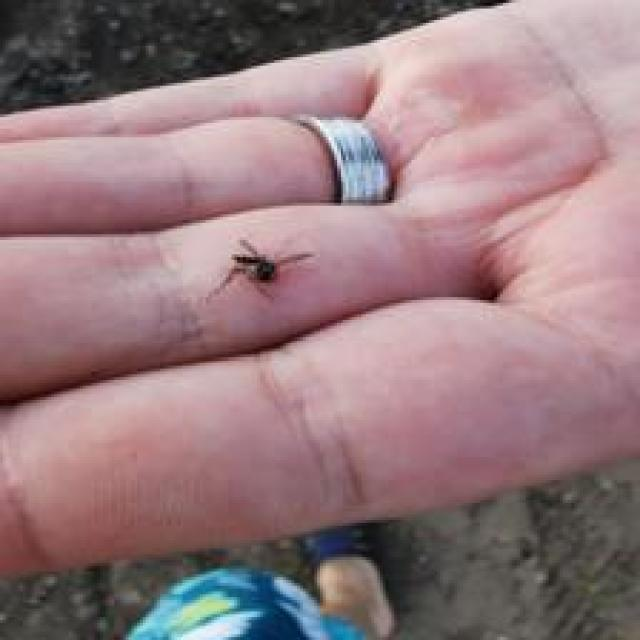Aedes albopictus: (206, 237, 314, 303)
